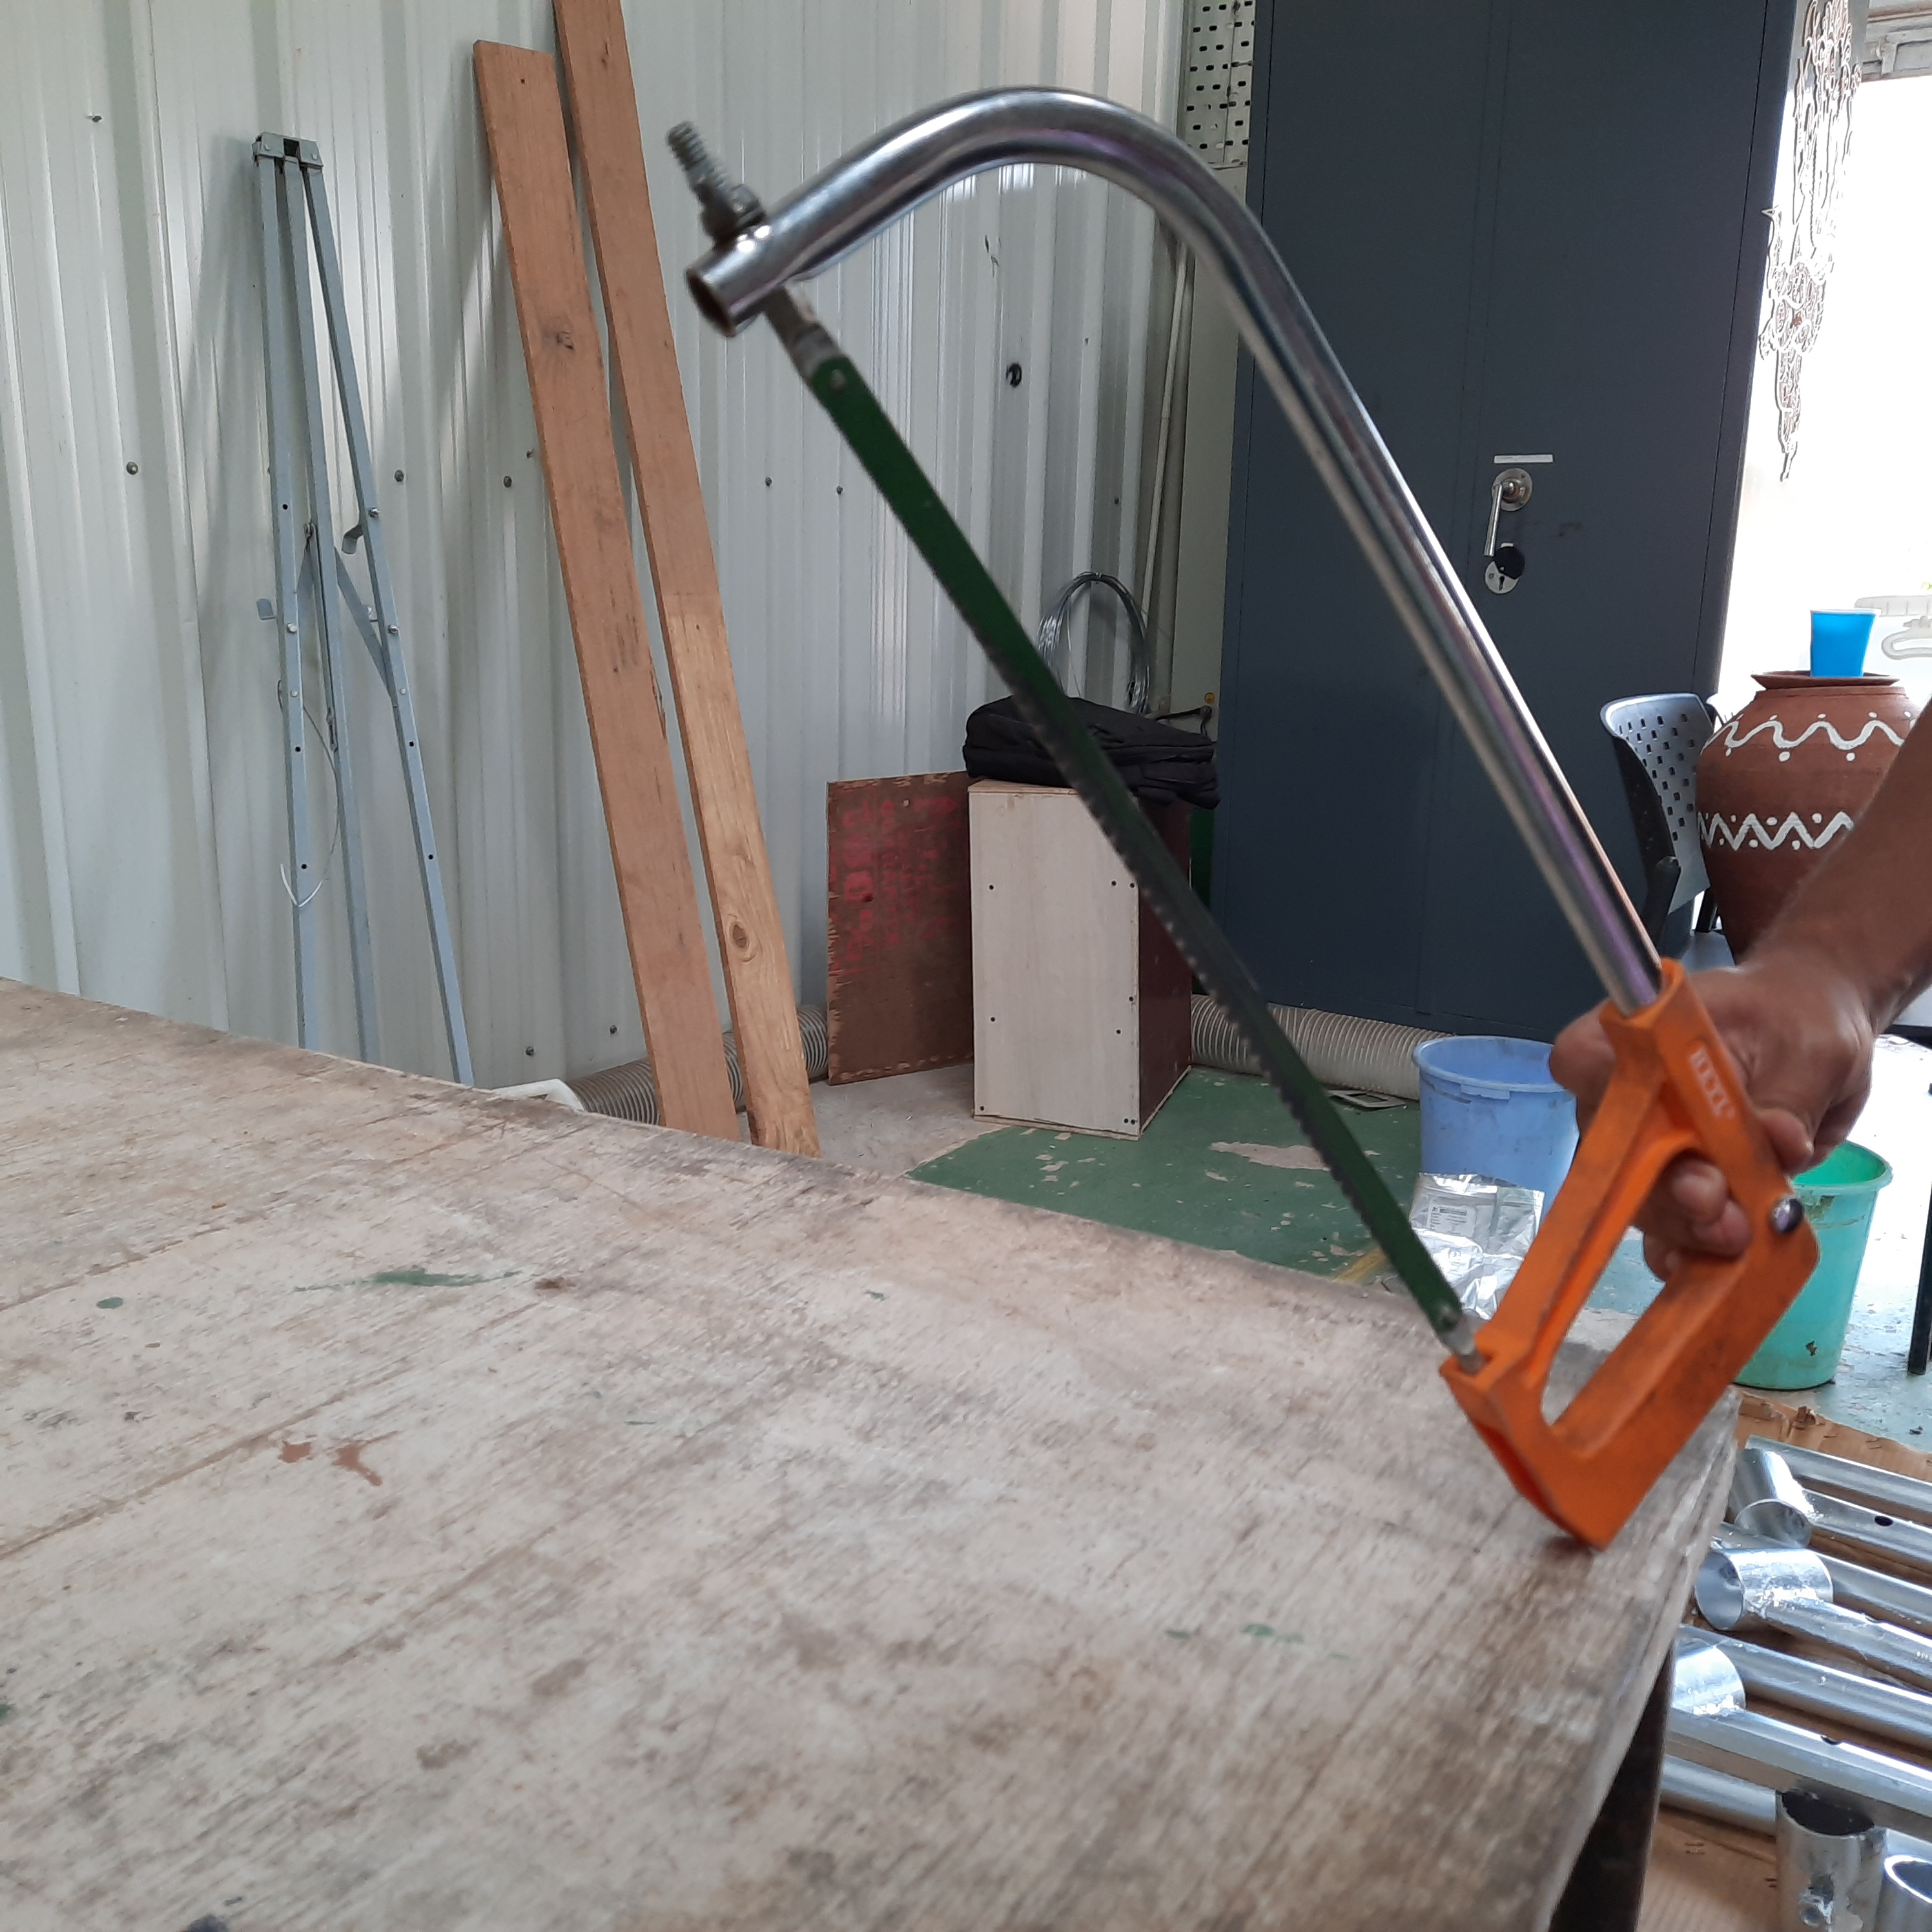Hexaframe: (653, 55, 1829, 1582)
